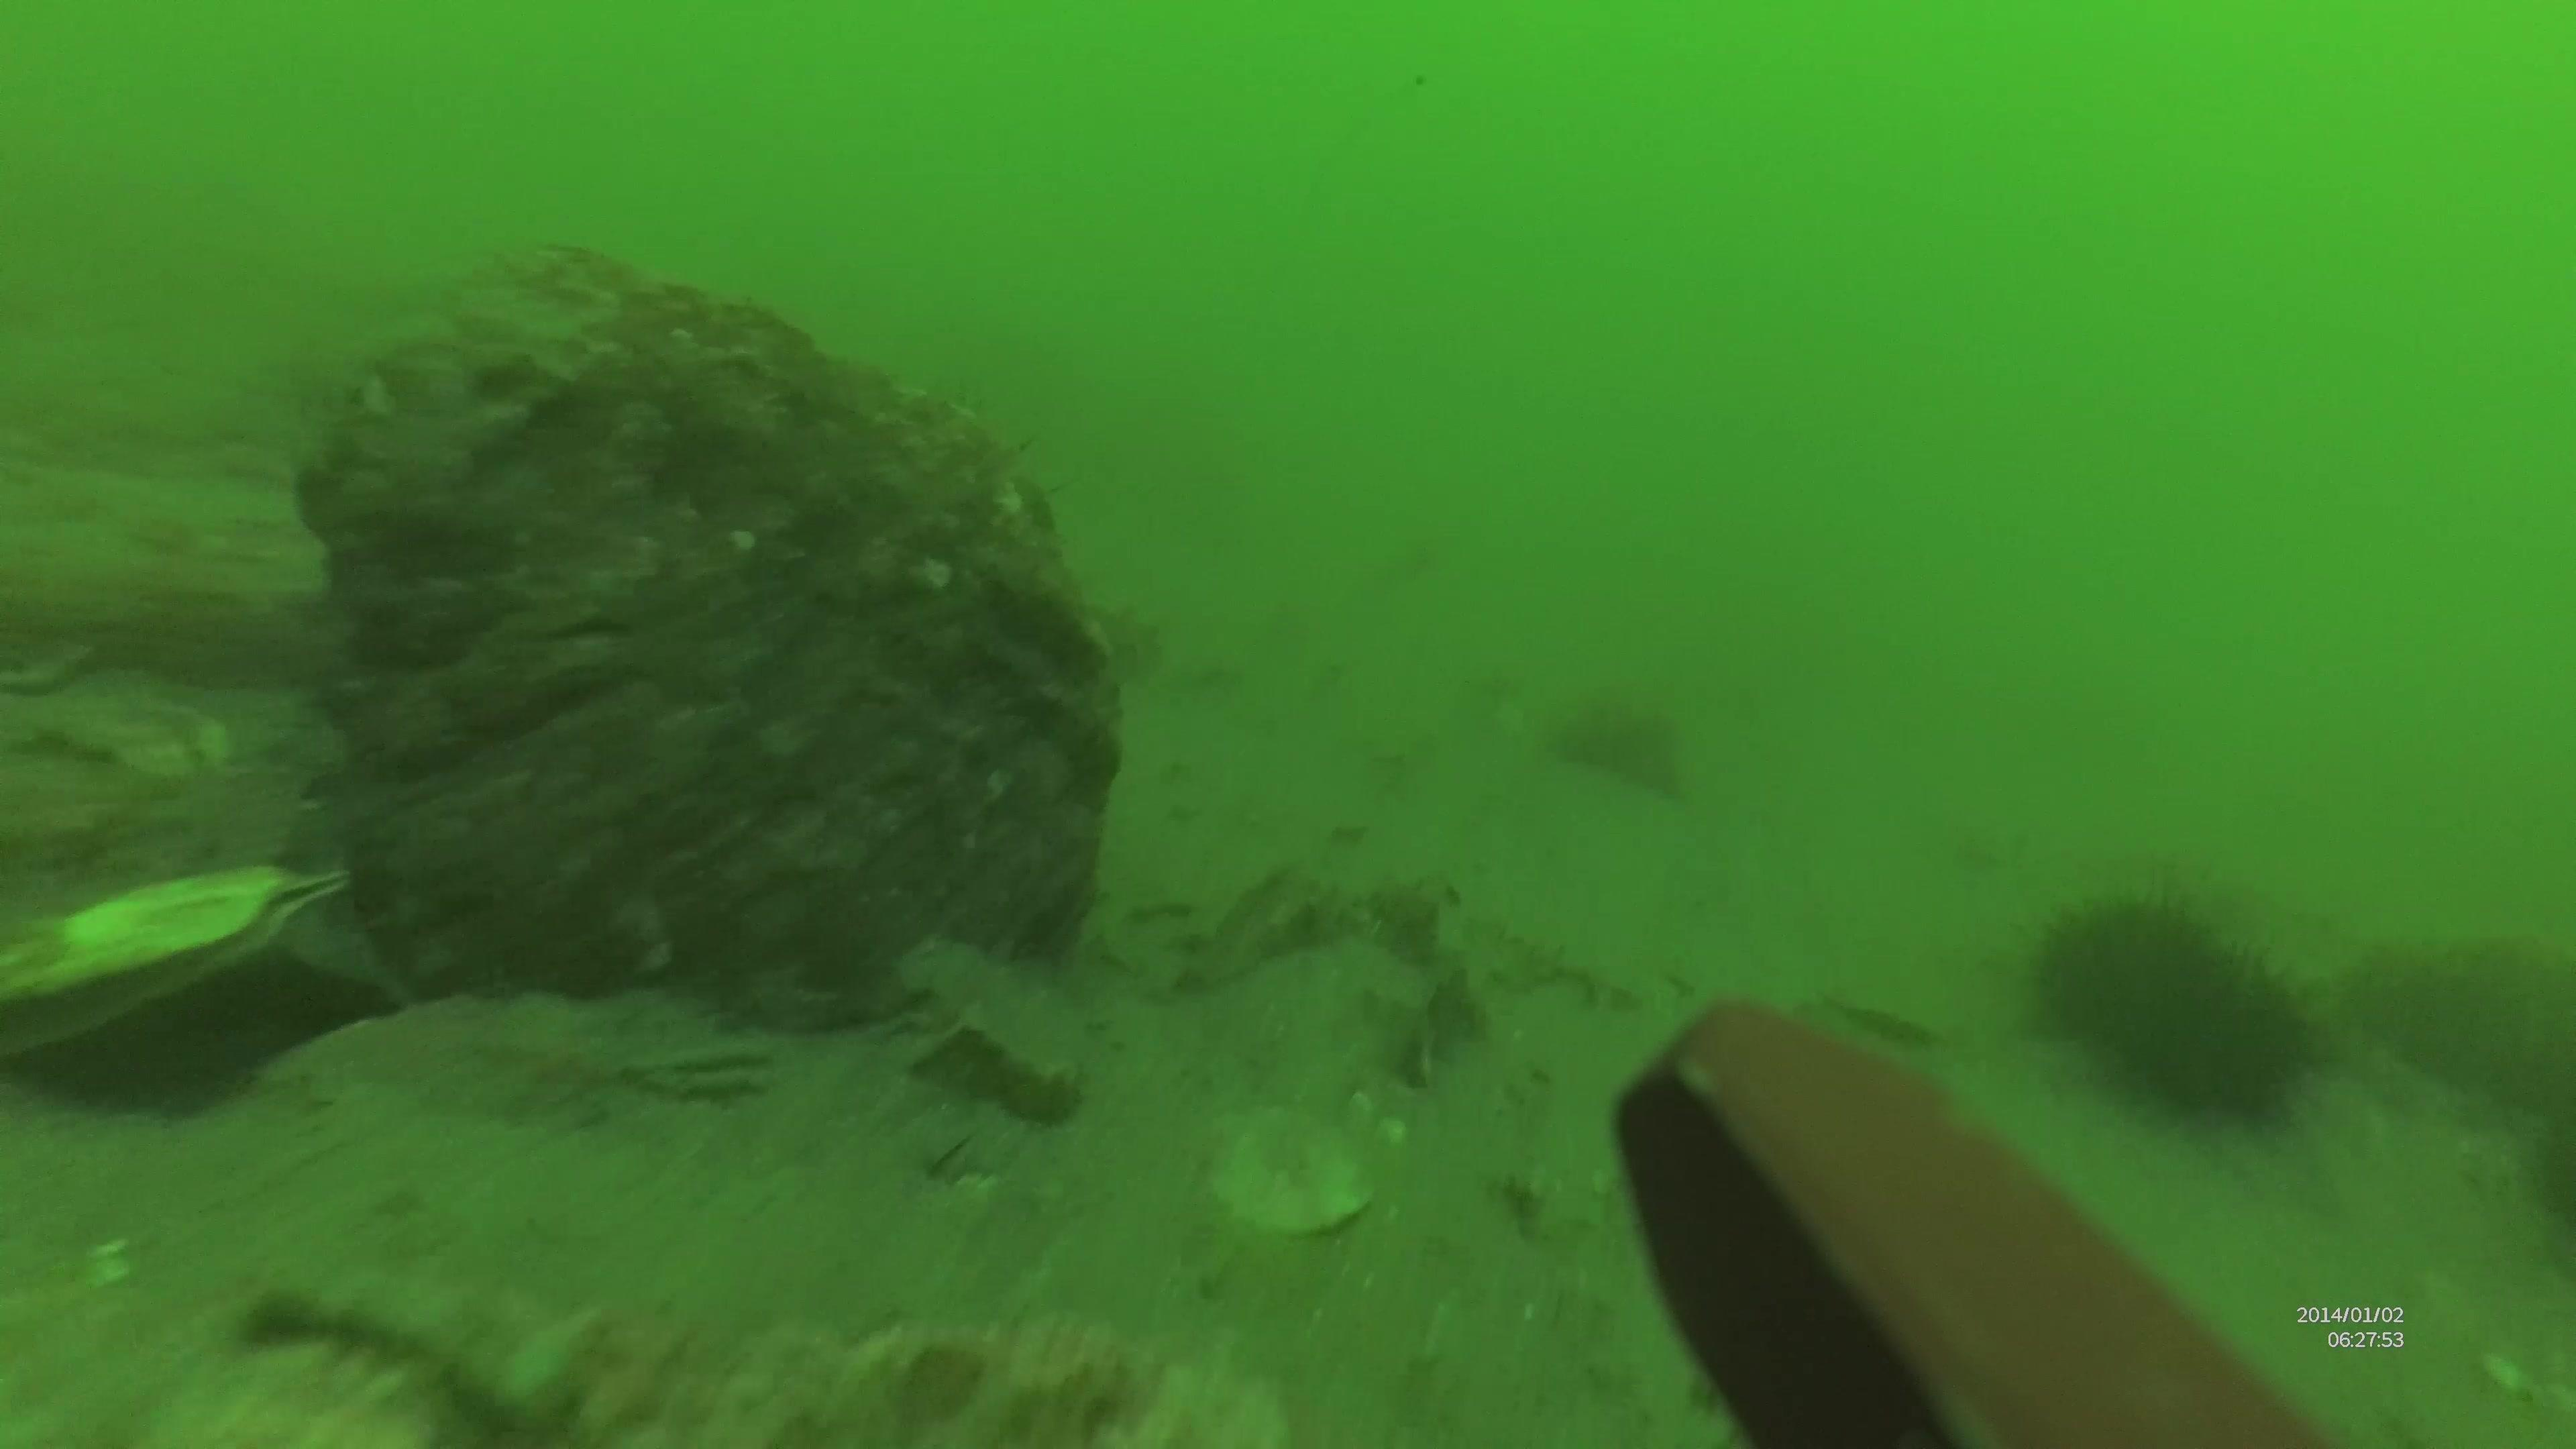echinus: (2015, 888, 2350, 1134)
scallop: (5, 832, 364, 1062), (1210, 1109, 1382, 1235)
